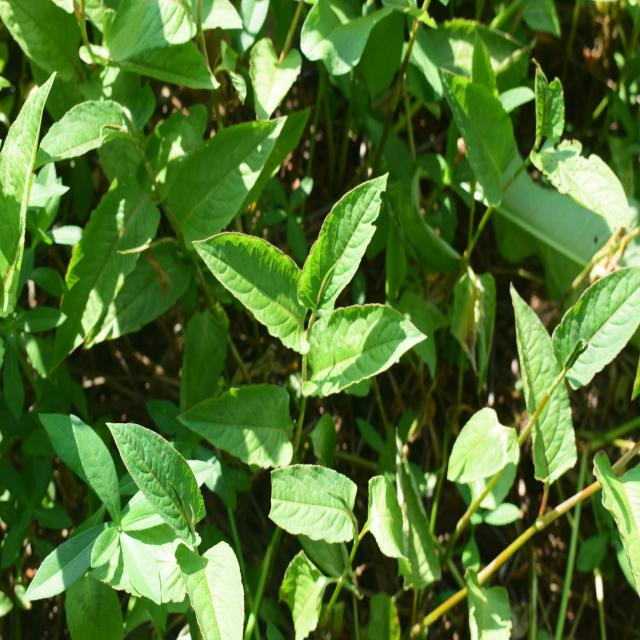Chinese_knotweed: (190, 162, 382, 468), (487, 272, 640, 532), (117, 412, 252, 630), (266, 421, 424, 574)
